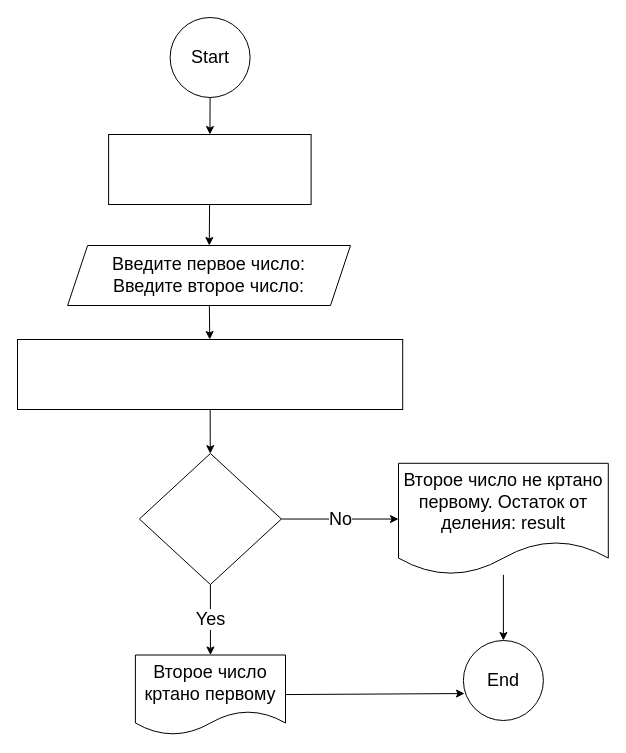
Some shapes in this 626 by 753 pixel diagram are drawn without their labels. Each missing label, with the centre of its shape:
int firstNumber = 0; int SecondNumber = 0;: (x=209, y=169)
int result = firstNumber % secondNumber: (x=209, y=374)
result == 0: (x=209, y=518)
